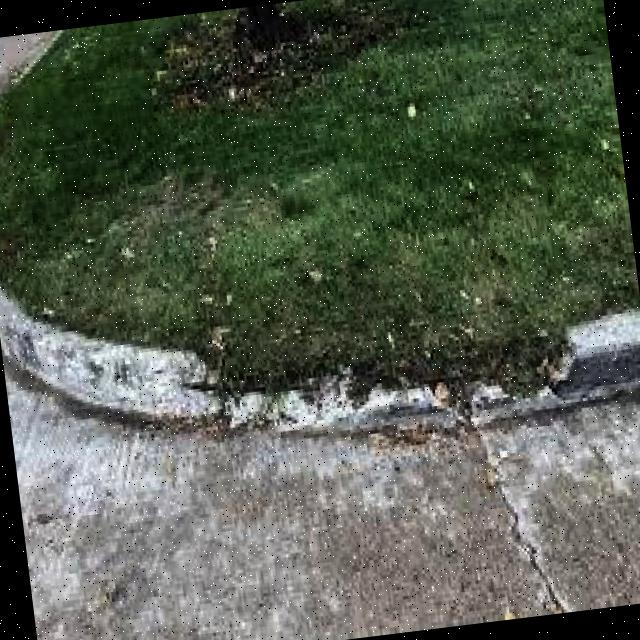curb: (1, 270, 358, 401), (376, 310, 640, 439)
